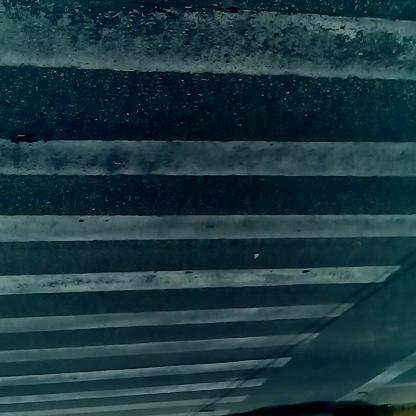crosswalk: (6, 7, 361, 406)
